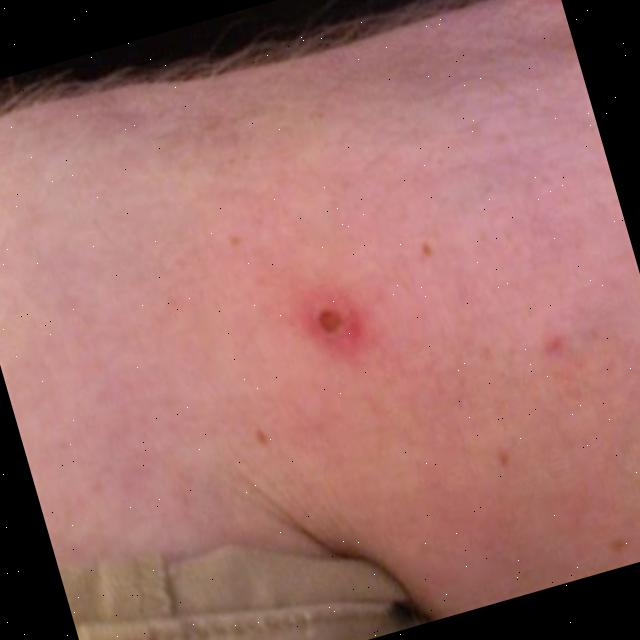kene: (295, 281, 369, 357)
